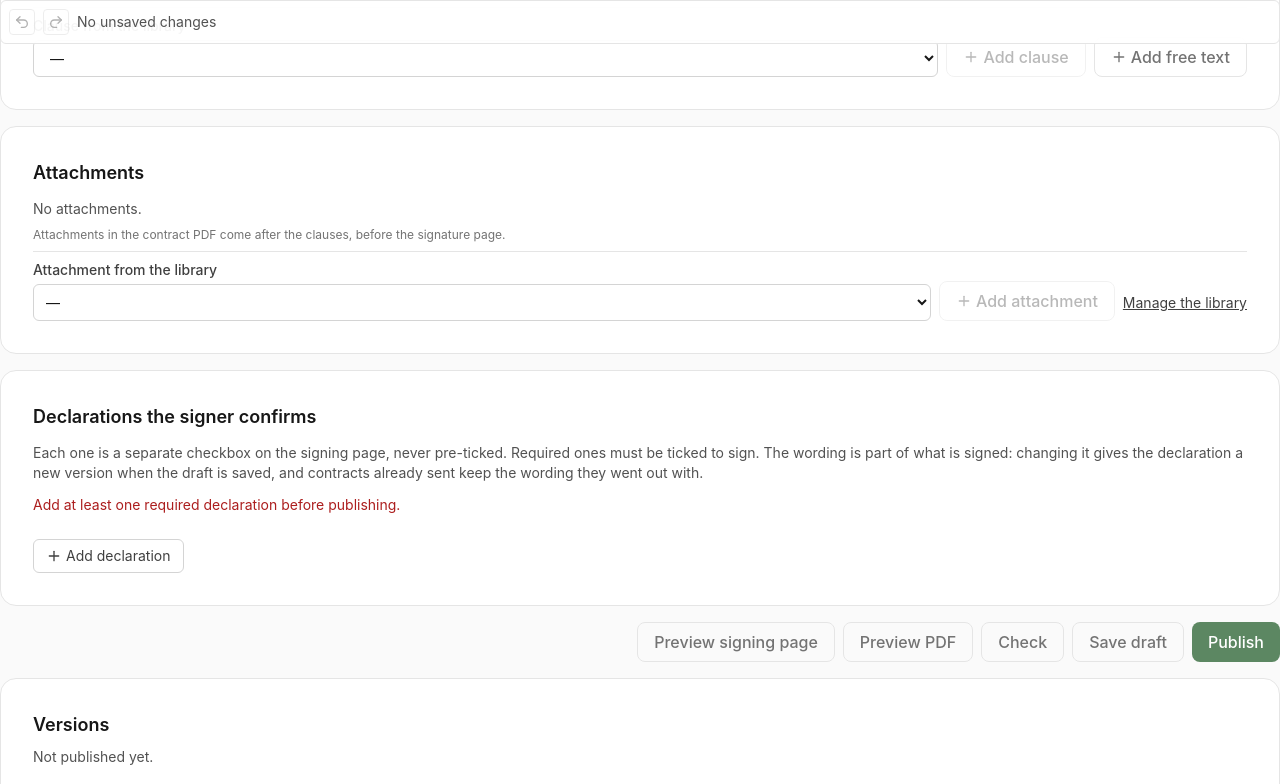
an edit made while the check runs marks its result as stale
The image size is (1280, 784).
(page scrolled)
Click the button "Check". click: (1023, 642)
box: [981, 622, 1064, 662]
(page scrolled)
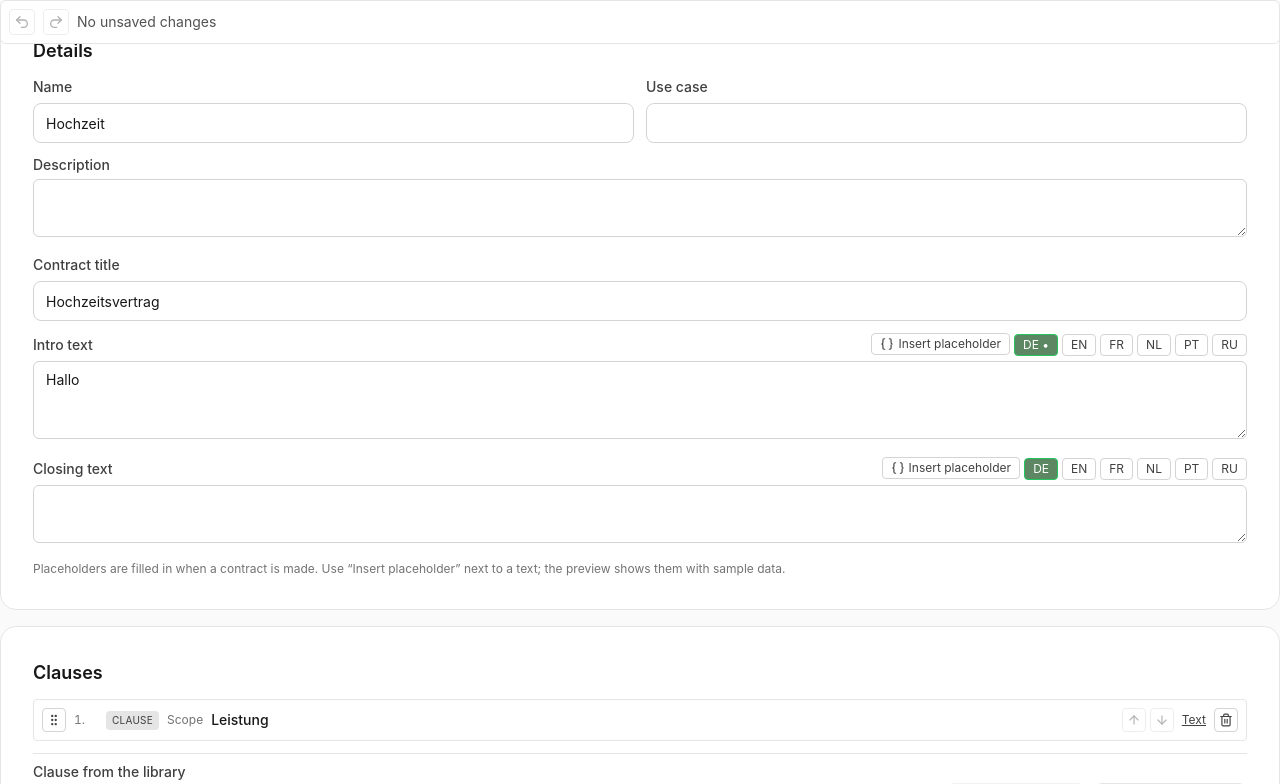
Type "!" into the text box showing "Hallo". click: (640, 400)
box: [33, 361, 1247, 439]
(page scrolled)
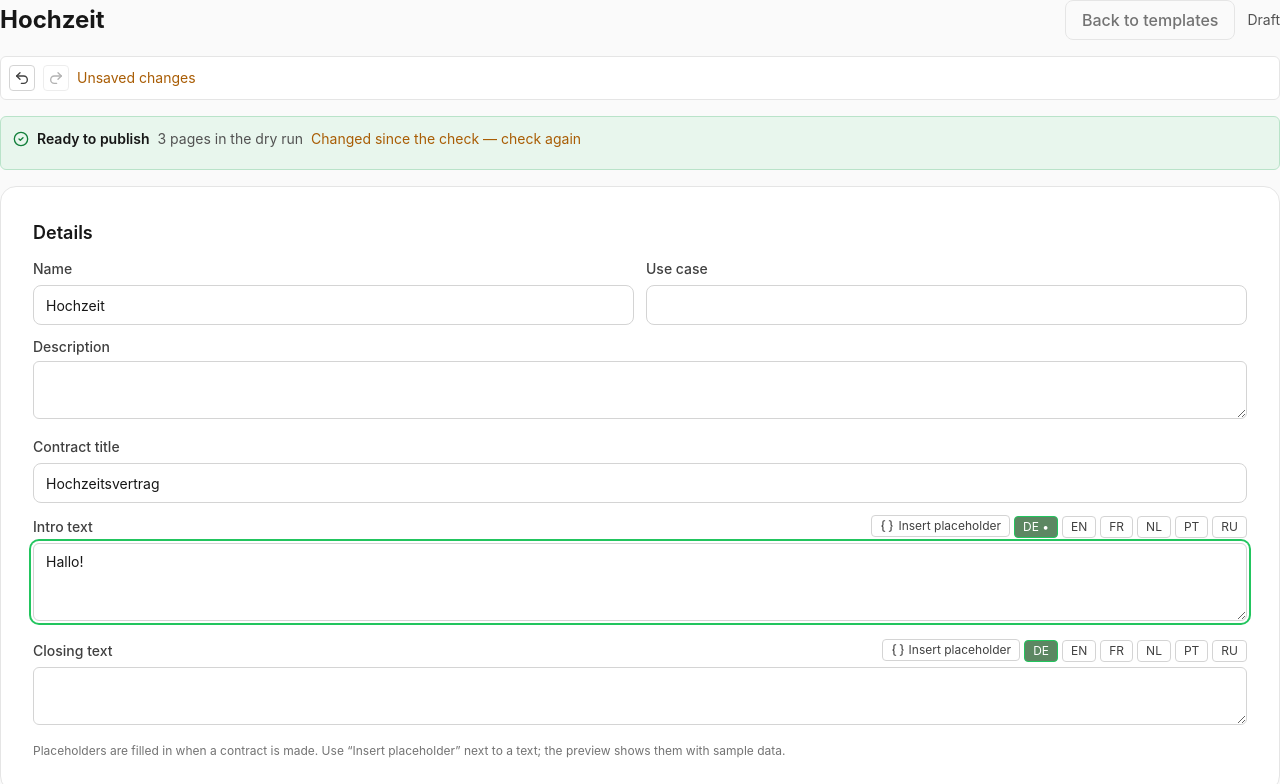
Now the text "Changed since the check — check again" is shown, box [311, 129, 581, 149]
